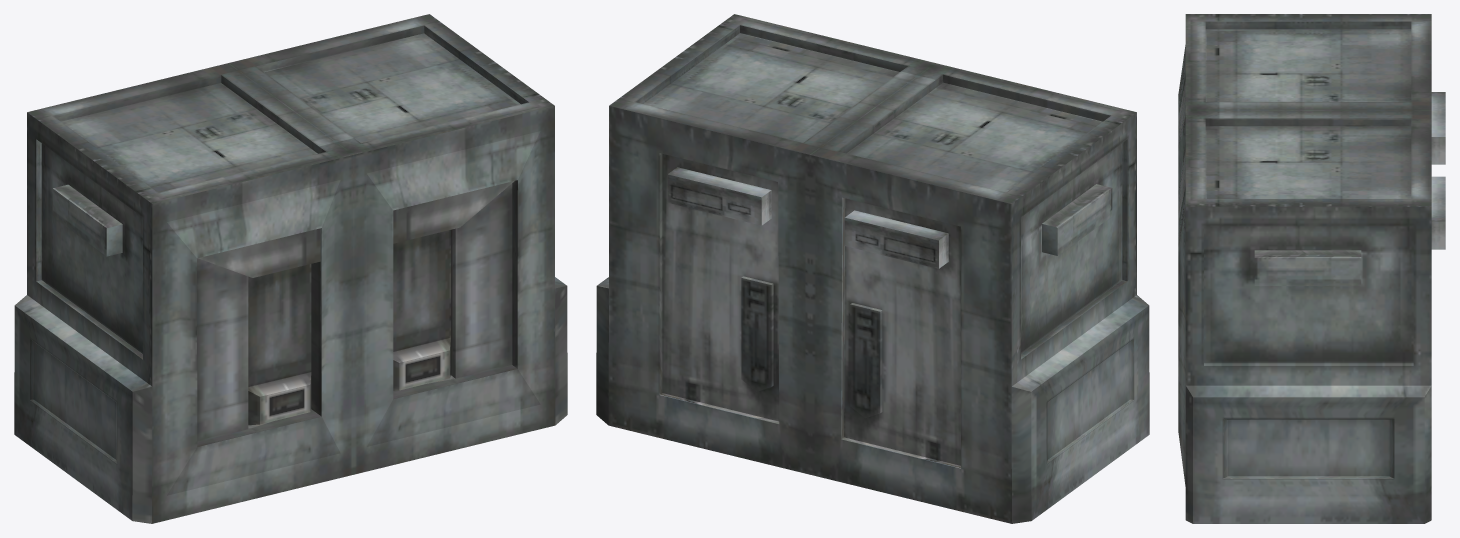
File: cargo_freighter_crate_s02_l0.fbx
3 views of the same model, side by side, from view 1: azimuth 30°, elevation 25°; view 2: azimuth 150°, elevation 25°; view 3: azimuth 270°, elevation 25° (orthographic). The views are drawn at different scales.
Visible parts, largest first — view 1: mesh_node; view 2: mesh_node; view 3: mesh_node.
Part boxes in pixels (x1,y1,x2,y2): mesh_node: (14, 14, 567, 523); mesh_node: (596, 14, 1149, 523); mesh_node: (1178, 14, 1445, 523).
Bounding box in the file's own units: 25.25 × 17.73 × 13.69.
